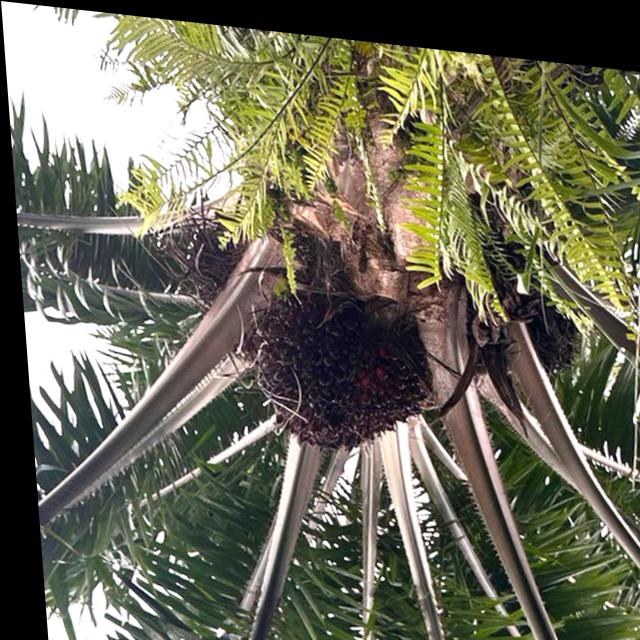ripe: (220, 266, 447, 471)
